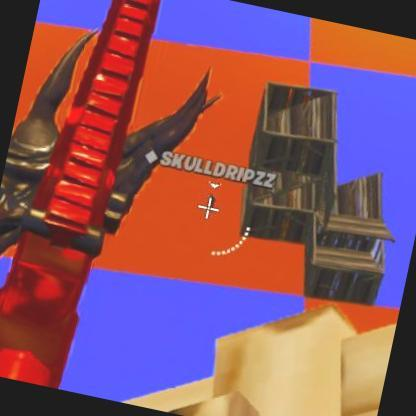person: (207, 190, 220, 206)
